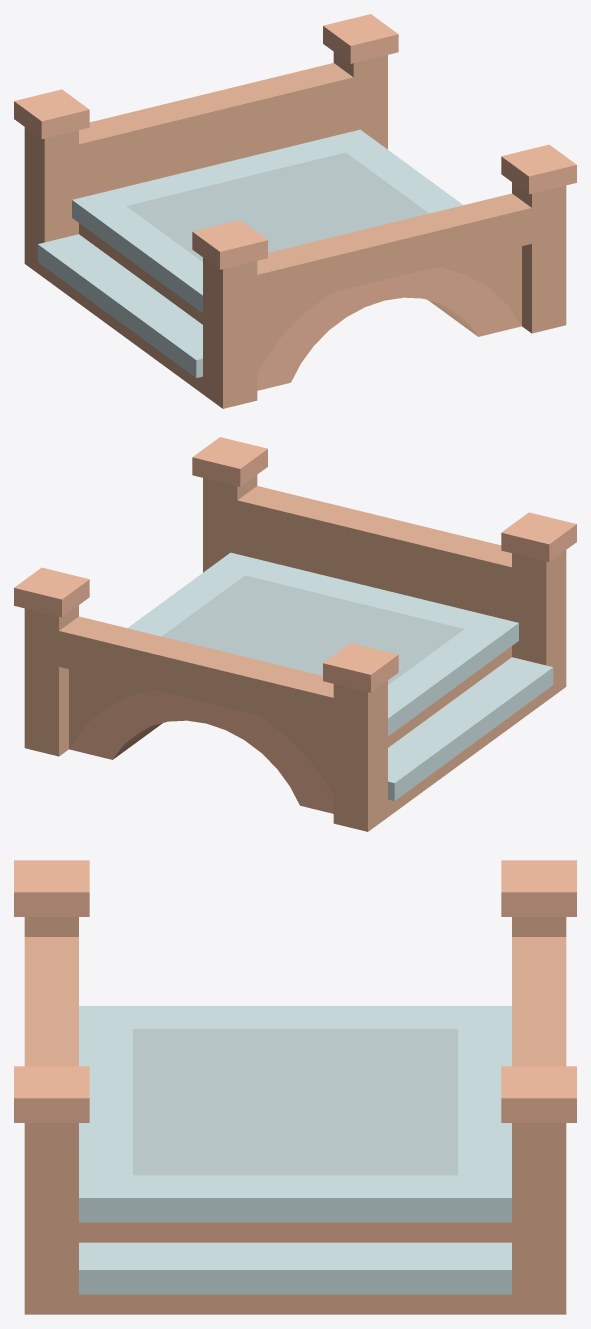
File: kenney-nature-bridge_woodRound.glb
3 renders of one model, top to bottom at view 1: azimuth 30°, elevation 25°; view 2: azimuth 150°, elevation 25°; view 3: azimuth 270°, elevation 25°, orthographic. The views are drawn at different scales.
Visible parts, largest first — view 1: bridge_woodRound; view 2: bridge_woodRound; view 3: bridge_woodRound.
Part boxes in pixels (x1=…): bridge_woodRound: x1=14, y1=14, x2=576, y2=408; bridge_woodRound: x1=14, y1=437, x2=576, y2=831; bridge_woodRound: x1=14, y1=860, x2=576, y2=1314.
Bounding box in the file's own units: 1.04 × 0.45 × 1.04.
